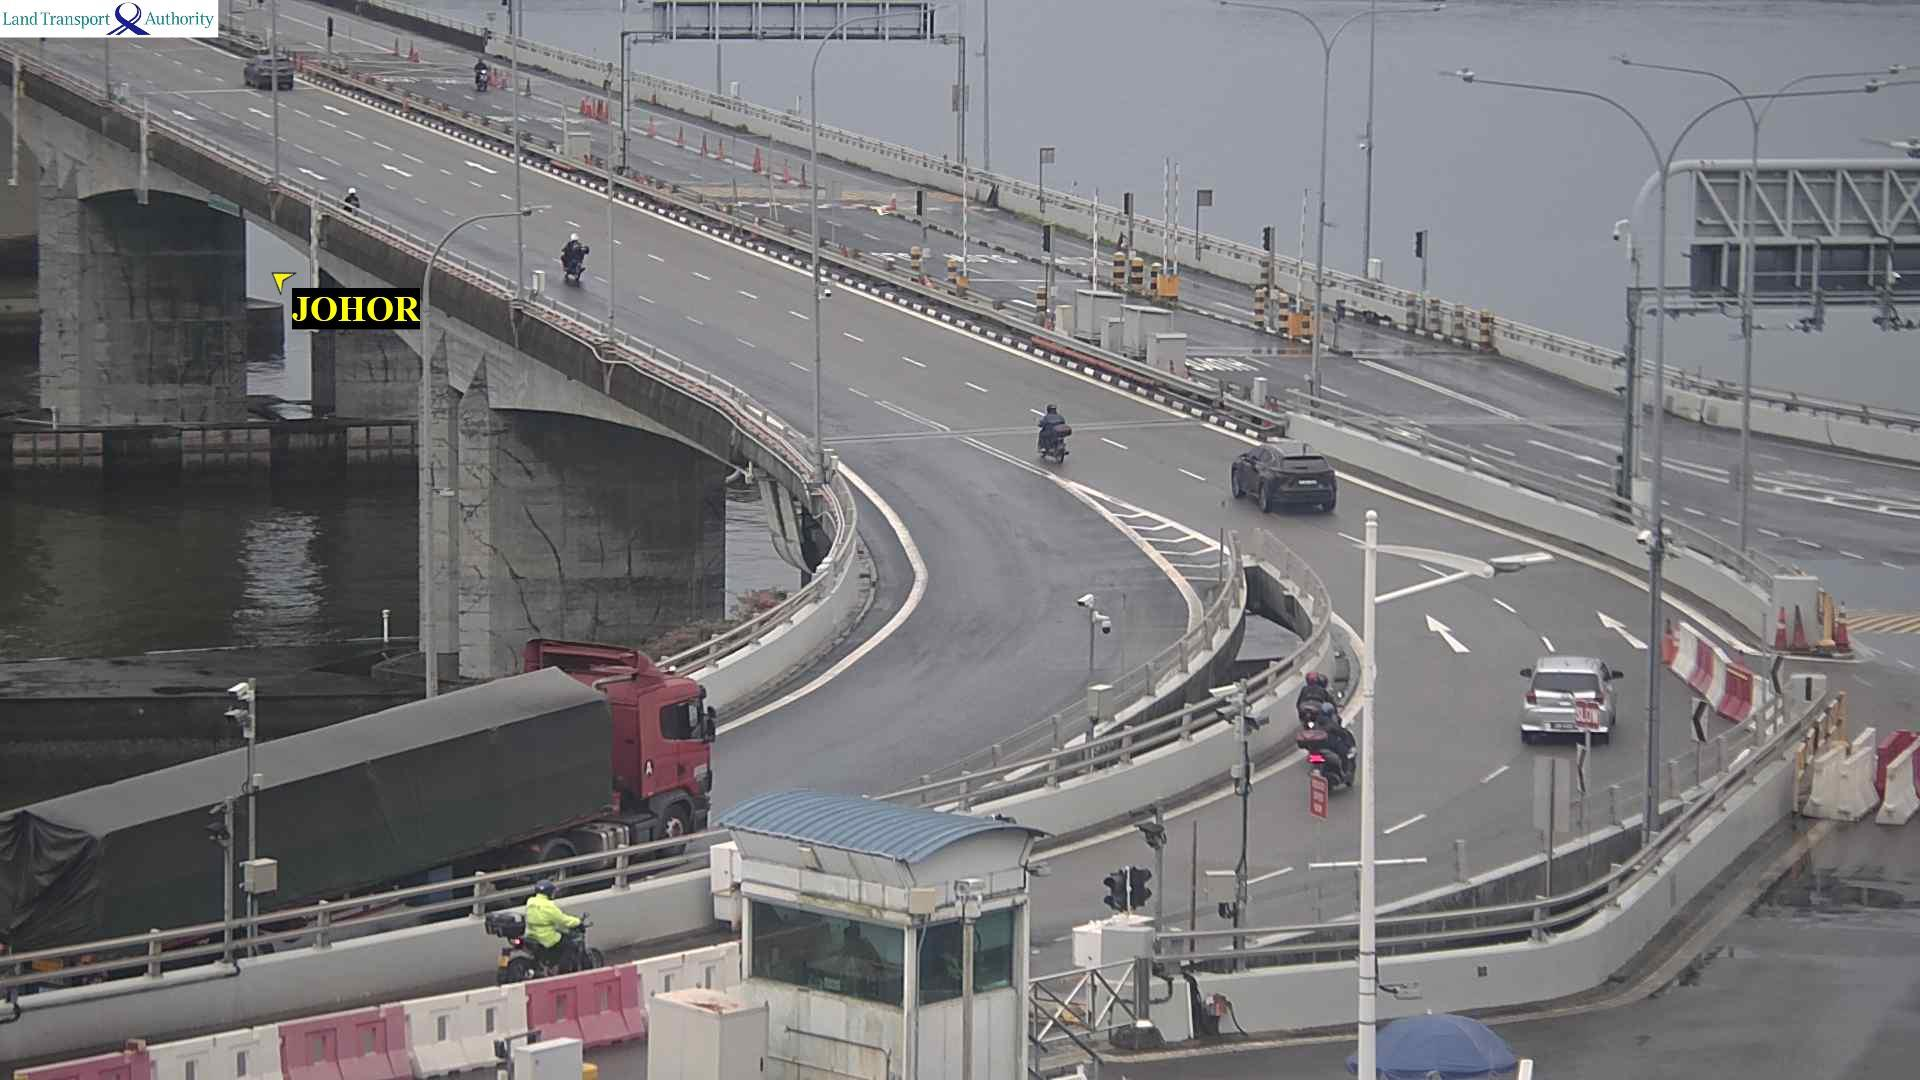vehicle-secondlink-johor: (0, 659, 711, 996), (484, 848, 609, 973), (1515, 655, 1613, 742), (1236, 446, 1340, 513), (1313, 724, 1365, 787), (1039, 405, 1075, 459), (244, 57, 299, 90), (559, 233, 587, 269), (477, 62, 498, 88)
